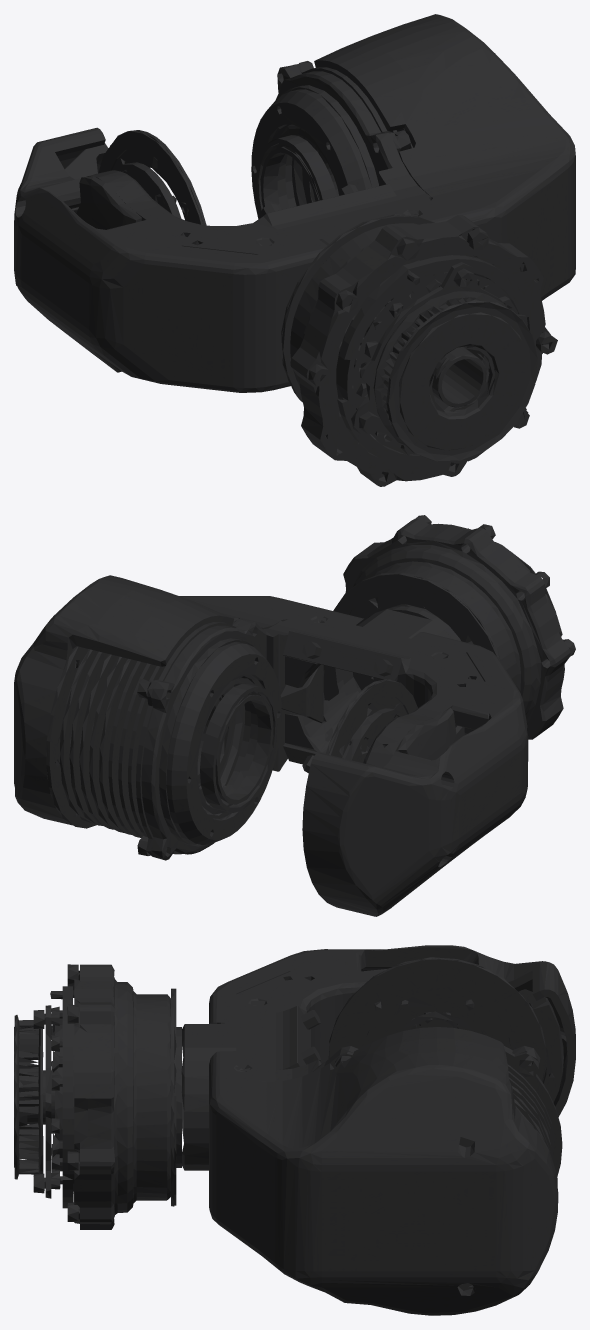
Rendered from hip_z_lo_res.dae.
3 renders of one model, top to bottom at view 1: azimuth 30°, elevation 25°; view 2: azimuth 150°, elevation 25°; view 3: azimuth 270°, elevation 25°, orthographic. The views are drawn at different scales.
Visible parts, largest first — view 1: node; view 2: node; view 3: node.
Boxes of the visible parts, bbox=[...] form: node: bbox=[14, 14, 575, 486]; node: bbox=[14, 515, 575, 916]; node: bbox=[14, 945, 575, 1315].
Size of the model in its own units: 0.191 by 0.1049 by 0.2068.
Materials: 1 (1 with a texture image).
